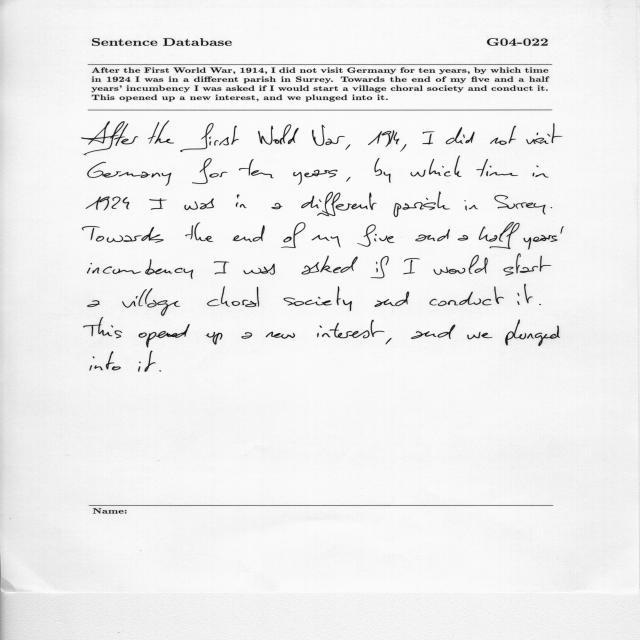word: (88, 259, 194, 279), (88, 162, 172, 186), (82, 121, 138, 155), (301, 192, 377, 216), (283, 286, 352, 311), (180, 123, 239, 152), (122, 288, 180, 316), (505, 319, 560, 346), (430, 286, 504, 306), (393, 192, 450, 217), (82, 226, 164, 243), (318, 320, 385, 338), (139, 324, 190, 347), (479, 222, 520, 249), (207, 286, 259, 307), (301, 256, 358, 275), (434, 255, 488, 275), (411, 156, 462, 177), (504, 254, 552, 276), (523, 226, 564, 250), (495, 195, 546, 214), (192, 158, 228, 184), (258, 124, 299, 145), (358, 224, 395, 247), (84, 317, 122, 338), (526, 123, 562, 144), (476, 159, 518, 176), (312, 125, 345, 146), (239, 160, 274, 179), (293, 170, 337, 185), (281, 222, 305, 248), (90, 351, 121, 371), (411, 325, 455, 339), (86, 197, 129, 211), (148, 121, 174, 144), (185, 222, 213, 242), (375, 291, 410, 307), (233, 225, 265, 242), (369, 130, 400, 147), (490, 125, 516, 145), (446, 127, 474, 144), (415, 229, 450, 242), (374, 158, 391, 183), (371, 256, 389, 278), (138, 351, 156, 372), (243, 264, 275, 275), (312, 235, 340, 247), (517, 284, 533, 305), (184, 199, 214, 210), (403, 258, 420, 274), (206, 332, 223, 345), (149, 198, 167, 210), (532, 166, 549, 178), (266, 332, 295, 339), (214, 262, 229, 275), (468, 332, 493, 339), (423, 131, 435, 145), (236, 194, 247, 208), (464, 201, 478, 211), (87, 300, 100, 307), (242, 332, 253, 339), (272, 203, 283, 209), (458, 235, 468, 241), (401, 144, 407, 152), (386, 338, 392, 344), (346, 145, 351, 150), (346, 177, 351, 181), (159, 370, 161, 372), (539, 304, 541, 305), (551, 207, 552, 208)
